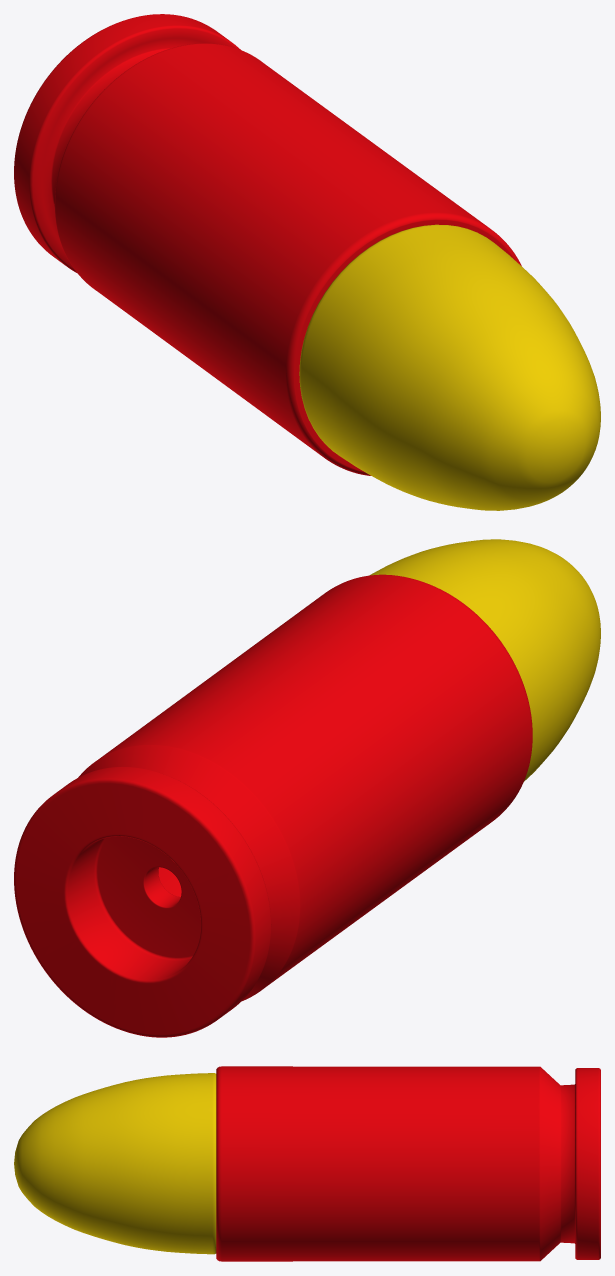
The model's file is Bullet.fbx.
The picture shows the model from 3 angles, top to bottom: view 1: azimuth 30°, elevation 25°; view 2: azimuth 150°, elevation 25°; view 3: azimuth 270°, elevation 25°; orthographic projection. The views are drawn at different scales.
Parts seen in each view (by area): view 1: Hlse_Circle.020, Projektil_Circle.021; view 2: Hlse_Circle.020, Projektil_Circle.021; view 3: Hlse_Circle.020, Projektil_Circle.021.
Part boxes in pixels (bbox=[...]): Hlse_Circle.020: bbox=[14, 14, 521, 475]; Projektil_Circle.021: bbox=[299, 224, 600, 510]; Hlse_Circle.020: bbox=[14, 574, 532, 1037]; Projektil_Circle.021: bbox=[369, 539, 600, 781]; Hlse_Circle.020: bbox=[216, 1066, 600, 1261]; Projektil_Circle.021: bbox=[14, 1073, 216, 1254].
Bounding box in the file's own units: 0.5493 × 0.5493 × 1.65.
